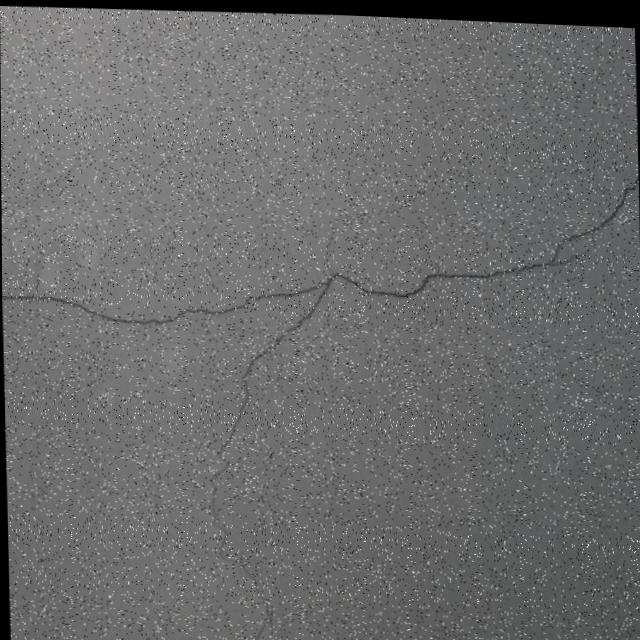Crack: (1, 144, 640, 351), (185, 333, 322, 640)
